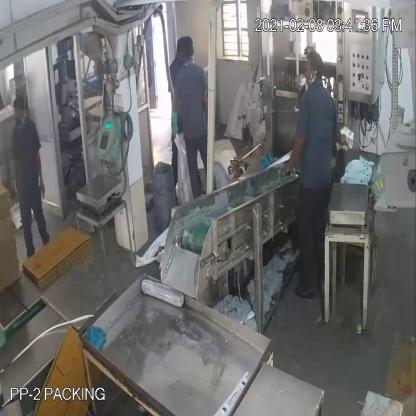no_glove: (275, 122, 305, 181), (34, 140, 48, 199)
